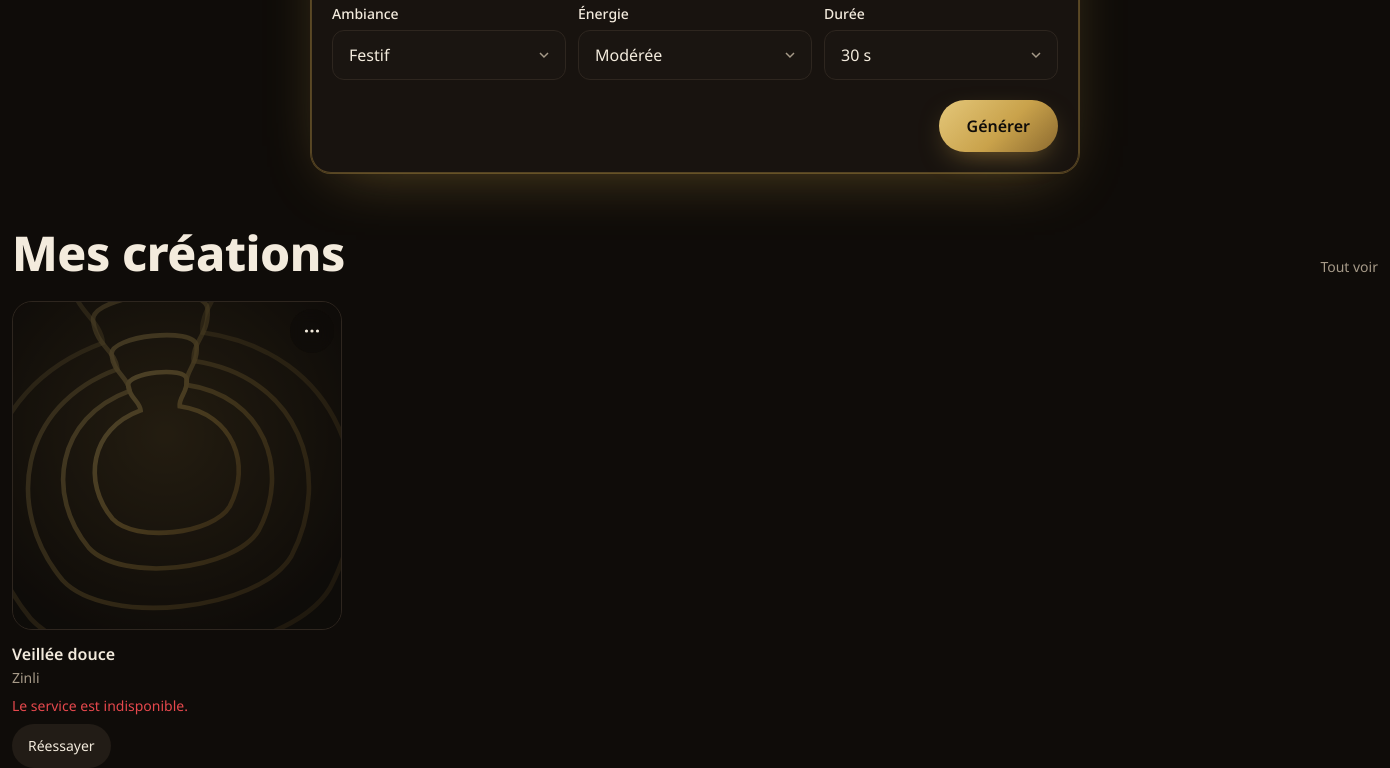
Test: StudioView › refills the creation box with a failed track's idea when retrying
The width and height of the screenshot is (1390, 768).
(page scrolled)
What coordinates should you click on to do the following:
click the button "Réessayer"
I would click on:
 (61, 746)
Its box is [12, 724, 111, 767].
(page scrolled)
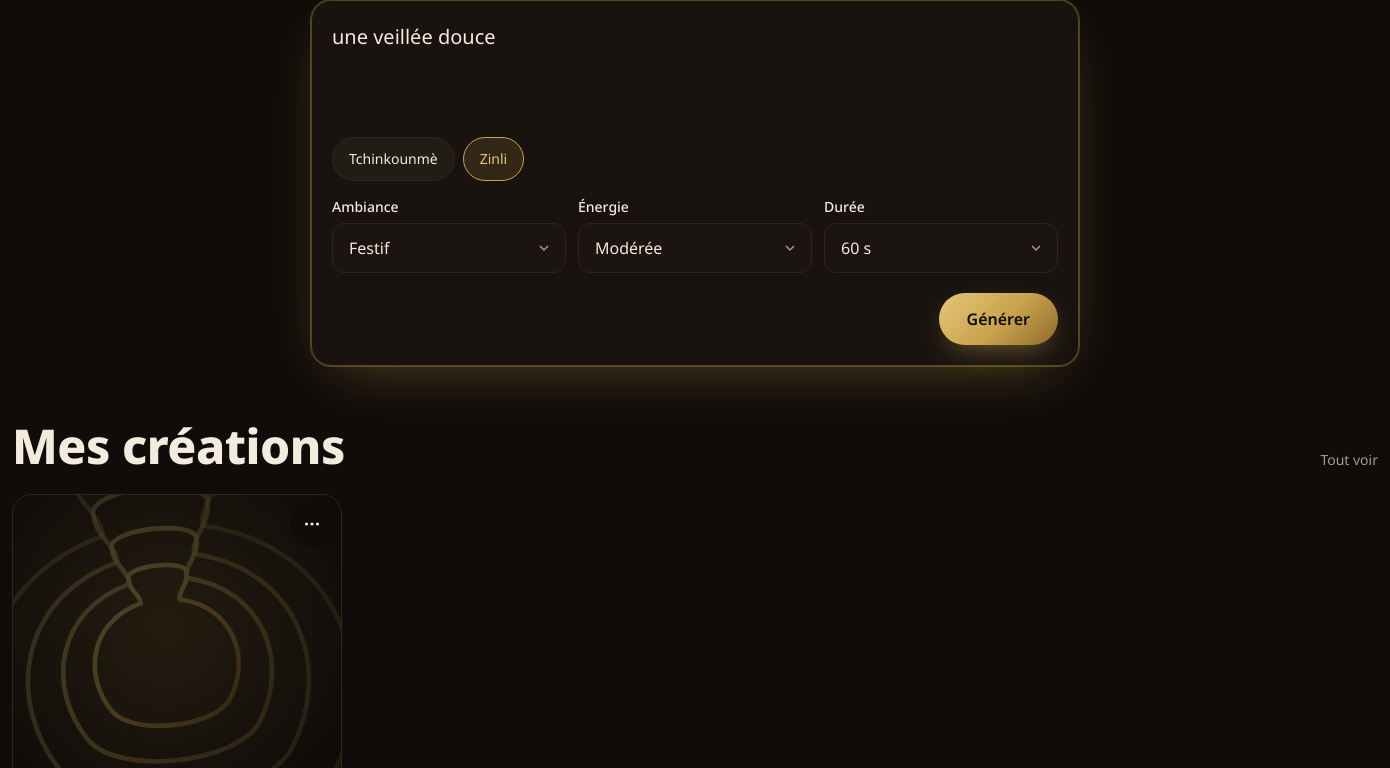
Check: the text box named "Décris ton idée" holds "une veillée douce", box [332, 21, 1058, 118]
